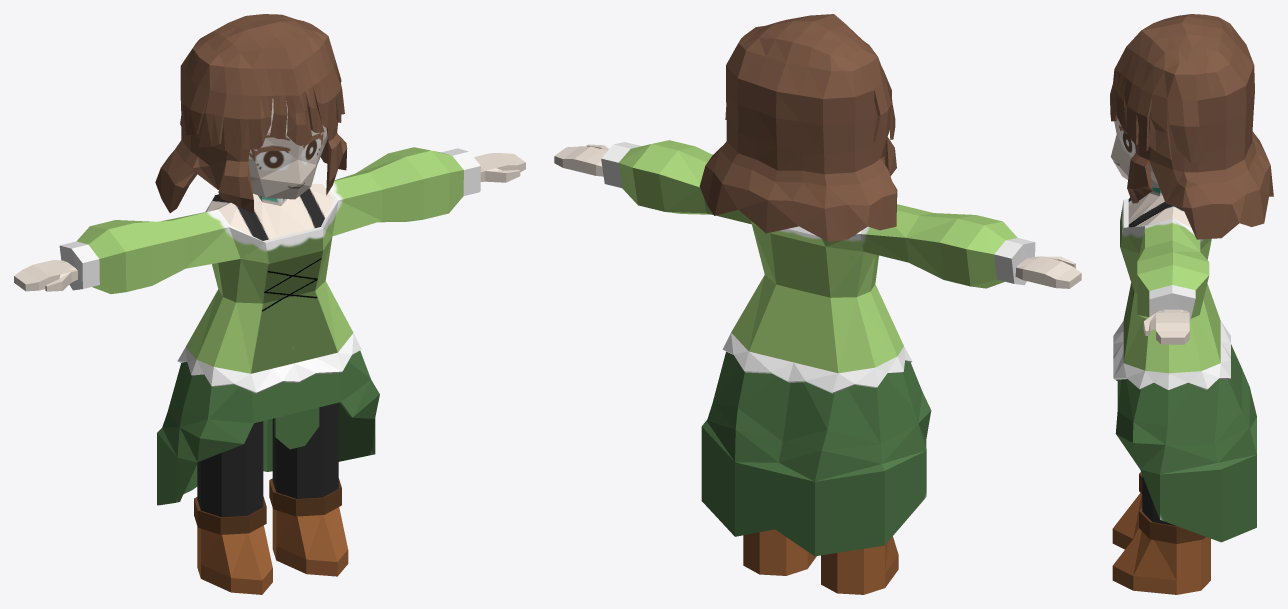
File: HanaelFinal.fbx
3 views of the same model, side by side, from view 1: azimuth 30°, elevation 25°; view 2: azimuth 150°, elevation 25°; view 3: azimuth 270°, elevation 25° (orthographic). The views are drawn at different scales.
Parts seen in each view (by area): view 1: Plane.001, Plane.002; view 2: Plane.001, Plane.002; view 3: Plane.001, Plane.002.
Part boxes in pixels (x1,y1,x2,y2): Plane.001: [14, 98, 525, 594]; Plane.002: [155, 14, 347, 213]; Plane.001: [554, 140, 1081, 594]; Plane.002: [699, 14, 897, 241]; Plane.001: [1110, 118, 1256, 594]; Plane.002: [1110, 14, 1273, 239].
Bounding box in the file's own units: 156 × 159 × 43.89.
2 materials, 2 textured.
